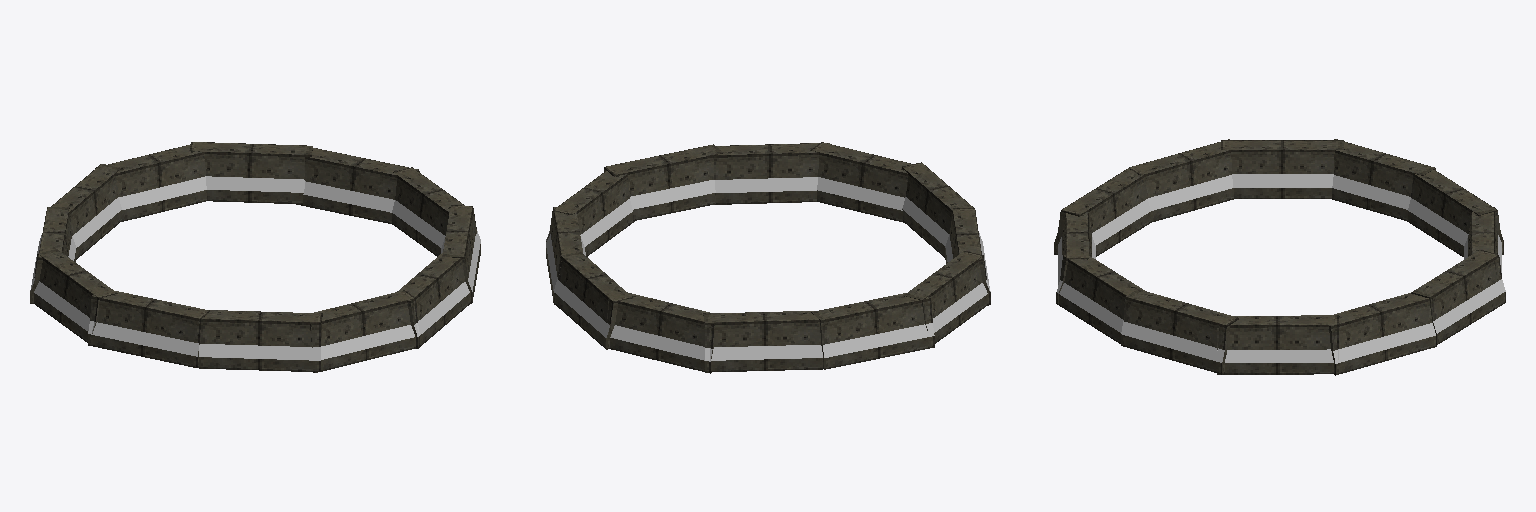
3 renders of one model, left to right at view 1: azimuth 30°, elevation 25°; view 2: azimuth 150°, elevation 25°; view 3: azimuth 270°, elevation 25°, orthographic.
Parts seen in each view (by area): view 1: detailBarrierStrong_typeB.008, detailBarrierStrong_typeB.004, detailBarrierStrong_typeB.003, detailBarrierStrong_typeB.006, detailBarrierStrong_typeB.010, detailBarrierStrong_typeB, detailBarrierStrong_typeB.002, detailBarrierStrong_typeB.007, detailBarrierStrong_typeB.009, detailBarrierStrong_typeB.001, detailBarrierStrong_typeB.011, detailBarrierStrong_typeB.005; view 2: detailBarrierStrong_typeB.001, detailBarrierStrong_typeB.005, detailBarrierStrong_typeB.007, detailBarrierStrong_typeB, detailBarrierStrong_typeB.011, detailBarrierStrong_typeB.006, detailBarrierStrong_typeB.003, detailBarrierStrong_typeB.002, detailBarrierStrong_typeB.009, detailBarrierStrong_typeB.008, detailBarrierStrong_typeB.010, detailBarrierStrong_typeB.004; view 3: detailBarrierStrong_typeB.011, detailBarrierStrong_typeB.009, detailBarrierStrong_typeB.002, detailBarrierStrong_typeB.010, detailBarrierStrong_typeB.004, detailBarrierStrong_typeB.005, detailBarrierStrong_typeB.003, detailBarrierStrong_typeB.008, detailBarrierStrong_typeB.001, detailBarrierStrong_typeB.007, detailBarrierStrong_typeB.006, detailBarrierStrong_typeB.
Boxes of the visible parts, x1,y1,x2,y2 form: detailBarrierStrong_typeB.008: [199, 310, 322, 371]; detailBarrierStrong_typeB.004: [88, 291, 209, 367]; detailBarrierStrong_typeB.003: [190, 142, 312, 203]; detailBarrierStrong_typeB.006: [310, 290, 419, 372]; detailBarrierStrong_typeB.010: [296, 148, 419, 223]; detailBarrierStrong_typeB: [95, 144, 206, 221]; detailBarrierStrong_typeB.002: [31, 249, 117, 342]; detailBarrierStrong_typeB.007: [397, 253, 469, 348]; detailBarrierStrong_typeB.009: [392, 167, 476, 256]; detailBarrierStrong_typeB.001: [51, 164, 121, 259]; detailBarrierStrong_typeB.011: [441, 205, 480, 303]; detailBarrierStrong_typeB.005: [30, 207, 75, 303]; detailBarrierStrong_typeB.001: [703, 311, 822, 372]; detailBarrierStrong_typeB.005: [811, 293, 934, 369]; detailBarrierStrong_typeB.007: [713, 143, 829, 204]; detailBarrierStrong_typeB: [607, 292, 715, 373]; detailBarrierStrong_typeB.011: [604, 144, 723, 220]; detailBarrierStrong_typeB.006: [811, 142, 911, 222]; detailBarrierStrong_typeB.003: [554, 252, 632, 349]; detailBarrierStrong_typeB.002: [903, 251, 990, 343]; detailBarrierStrong_typeB.009: [546, 171, 634, 256]; detailBarrierStrong_typeB.008: [902, 162, 976, 257]; detailBarrierStrong_typeB.010: [546, 207, 585, 304]; detailBarrierStrong_typeB.004: [945, 208, 990, 305]; detailBarrierStrong_typeB.011: [1121, 289, 1238, 374]; detailBarrierStrong_typeB.009: [1217, 315, 1338, 374]; detailBarrierStrong_typeB.002: [1221, 140, 1343, 198]; detailBarrierStrong_typeB.010: [1329, 292, 1436, 375]; detailBarrierStrong_typeB.004: [1129, 139, 1233, 222]; detailBarrierStrong_typeB.005: [1332, 139, 1435, 220]; detailBarrierStrong_typeB.003: [1411, 250, 1505, 345]; detailBarrierStrong_typeB.008: [1054, 168, 1150, 256]; detailBarrierStrong_typeB.001: [1407, 170, 1503, 256]; detailBarrierStrong_typeB.007: [1056, 255, 1144, 343]; detailBarrierStrong_typeB.006: [1058, 212, 1095, 304]; detailBarrierStrong_typeB: [1464, 207, 1501, 279].
Size of the model in its own units: 16.18 by 1.94 by 16.12.
2 materials, 1 textured.